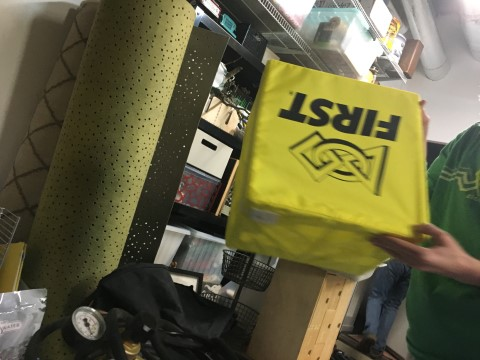cube: (224, 59, 434, 276)
